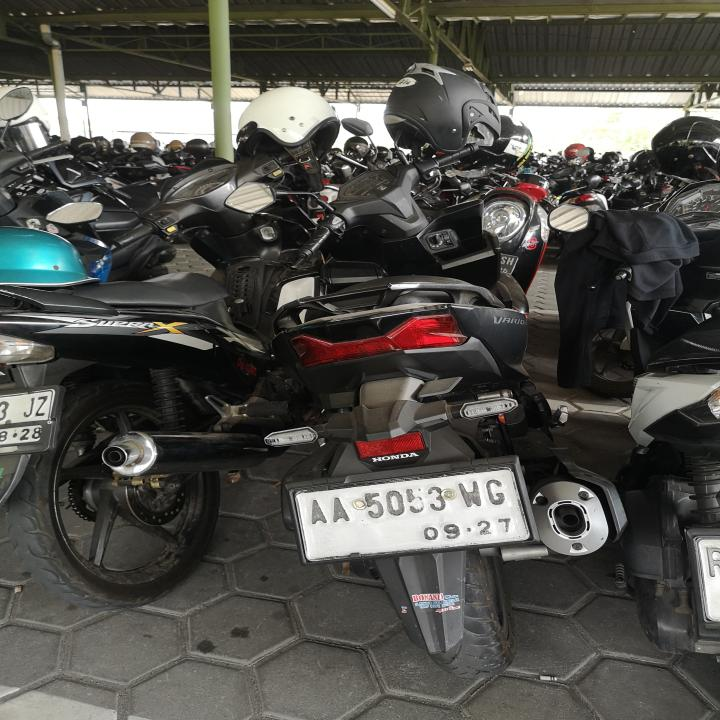plate: (289, 466, 533, 563)
